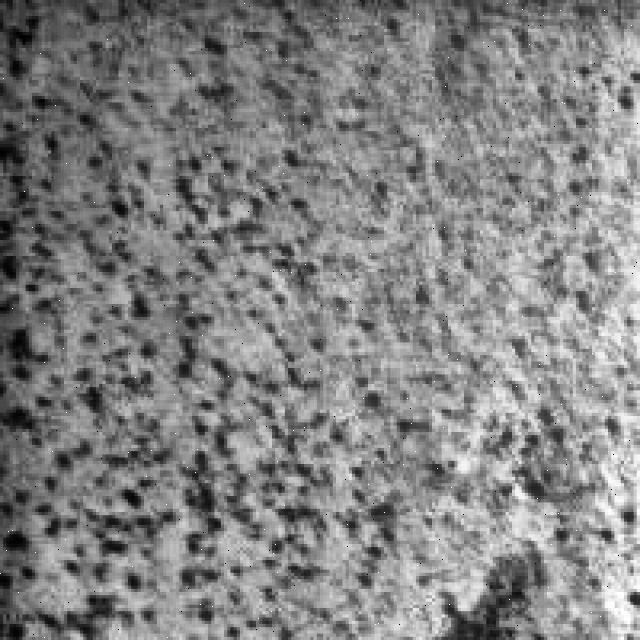Rolled_in_Scale: (3, 25, 362, 630), (356, 55, 598, 628), (300, 442, 580, 634)
